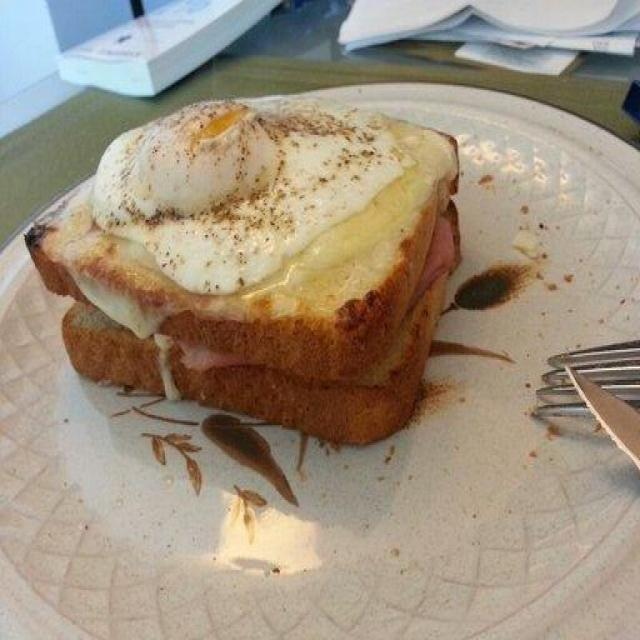food_waste: (69, 118, 435, 436)
